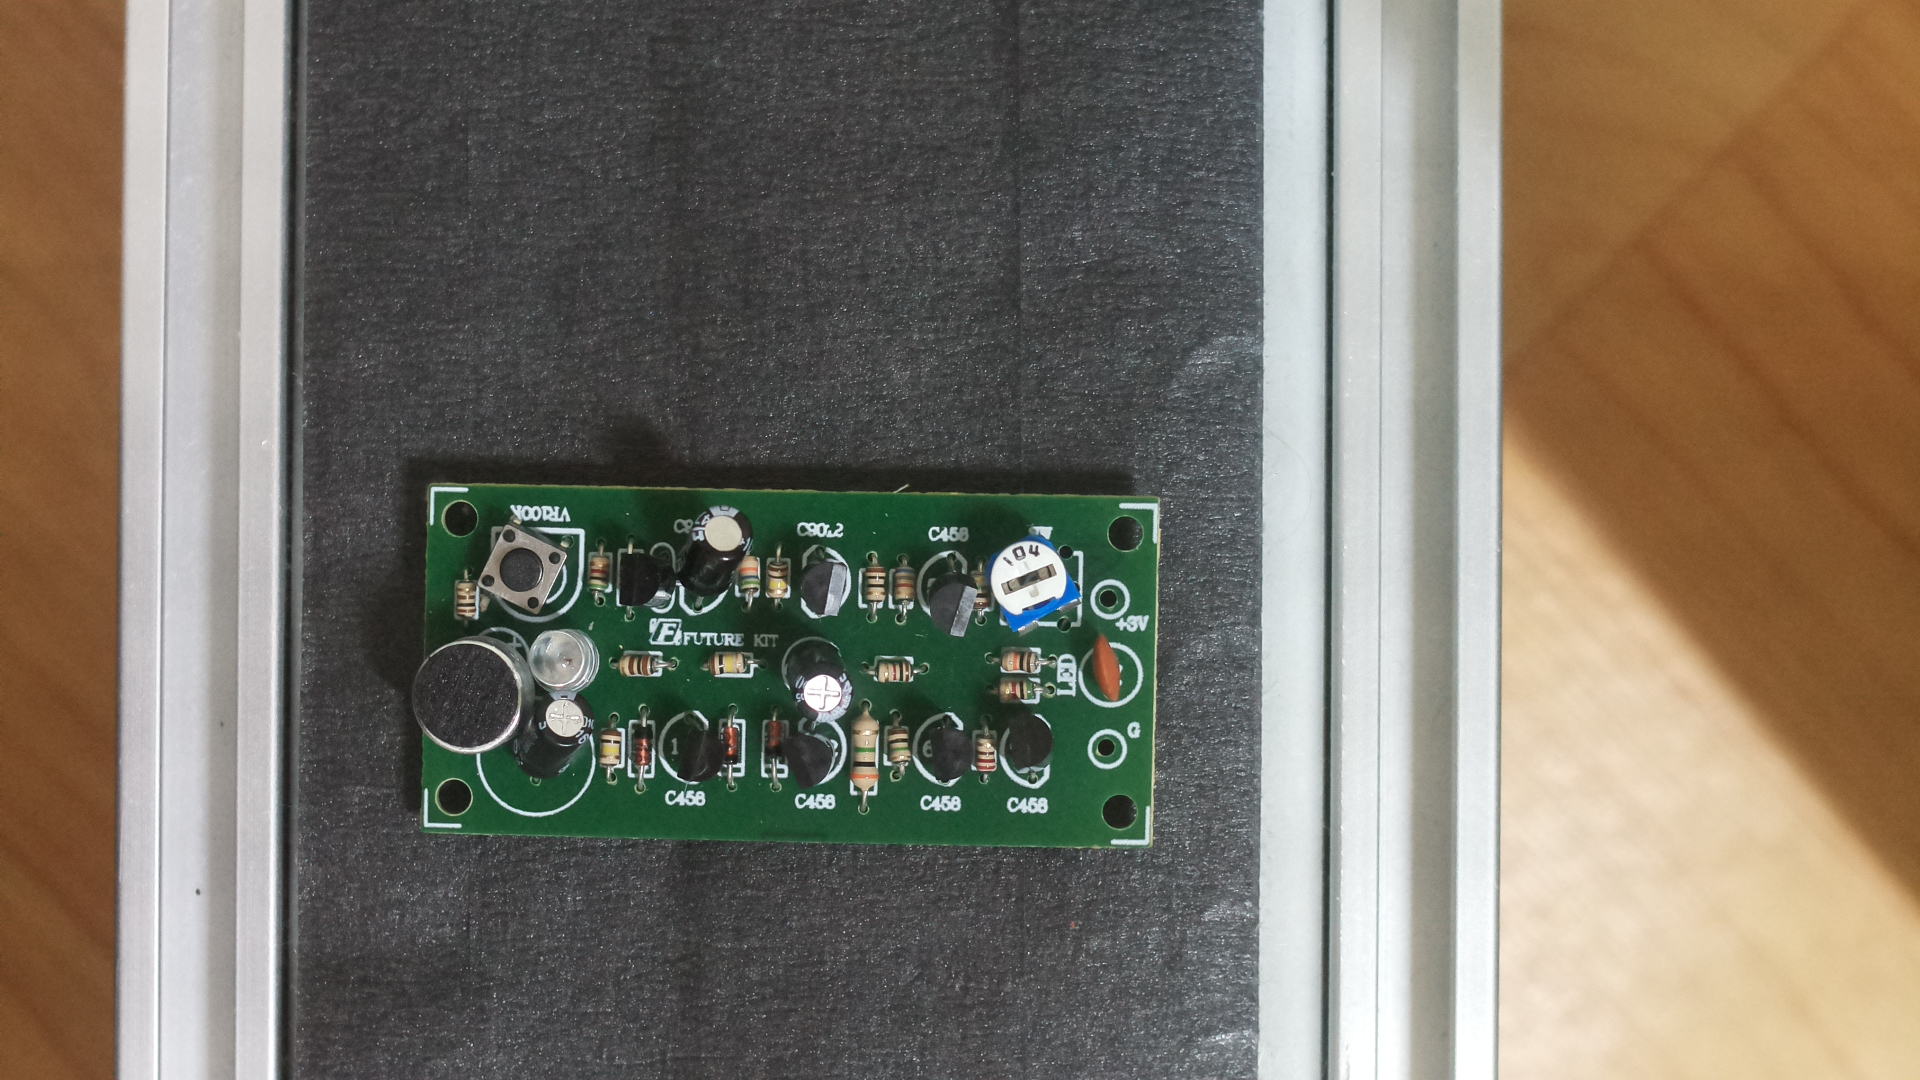A_Misordered: (404, 455, 1178, 866)
